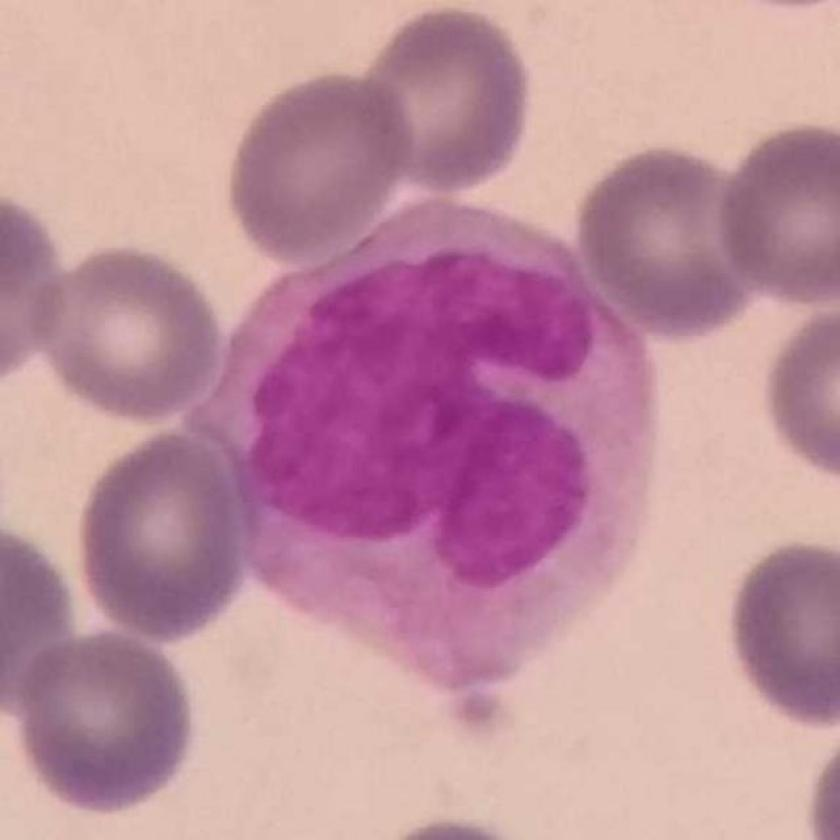monocyte: (184, 191, 667, 694)
